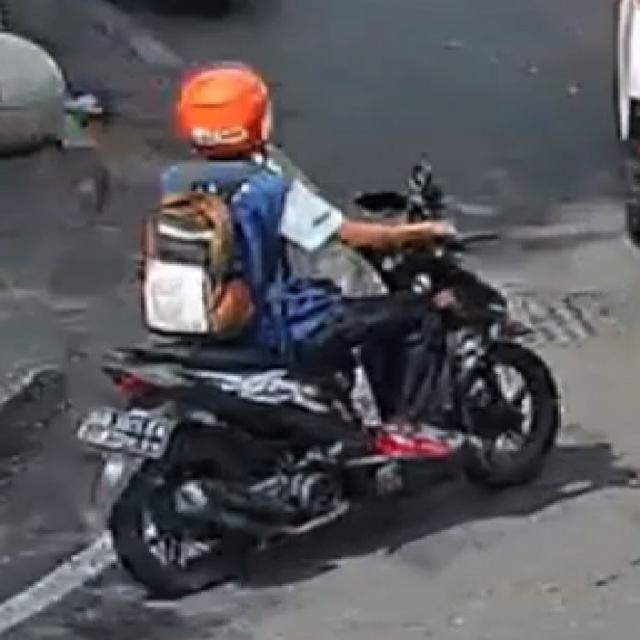helm: (153, 59, 284, 176)
motor: (84, 54, 562, 586)
spion: (391, 146, 446, 224)
